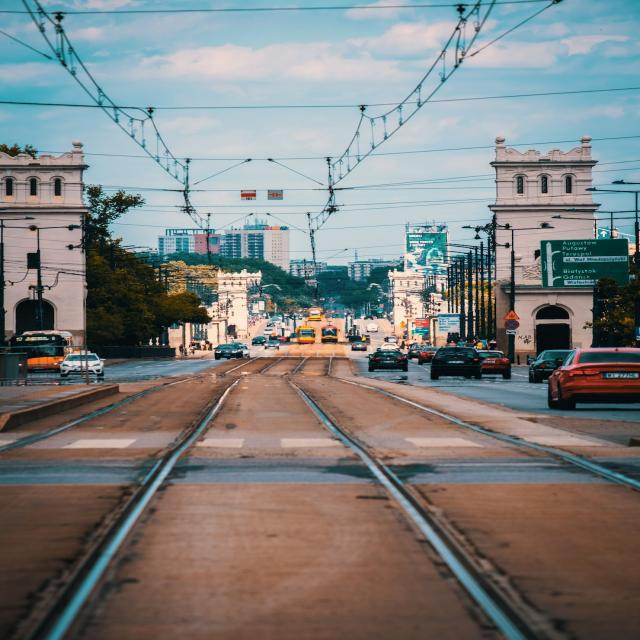no stopping: (504, 320, 520, 329)
